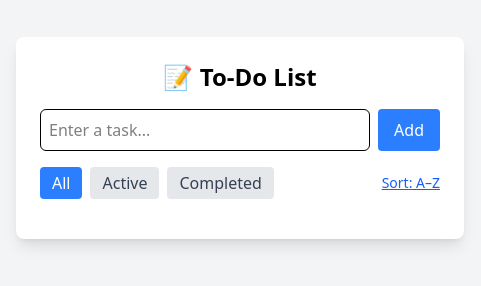
Test: To-Do App › removes task
The width and height of the screenshot is (481, 286).
In the field with placeholder "Enter a task...": (205, 130) [40, 109, 370, 151], type "Remove me"
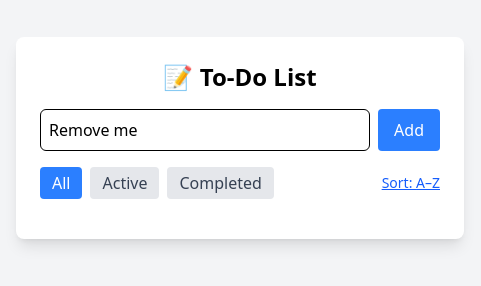
Click the button "Add": (409, 130) [378, 109, 440, 151]
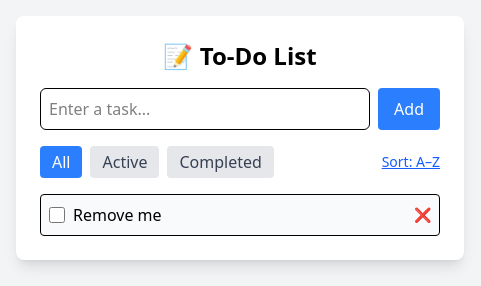
Click the button "❌": (422, 215) [414, 205, 431, 225]
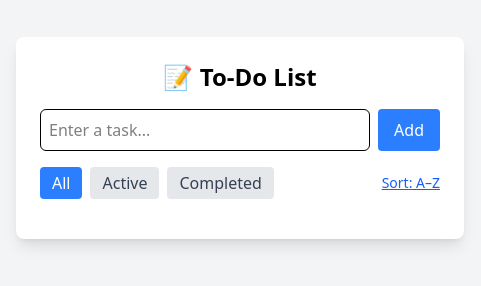
Expected: the text "Remove me" is gone
